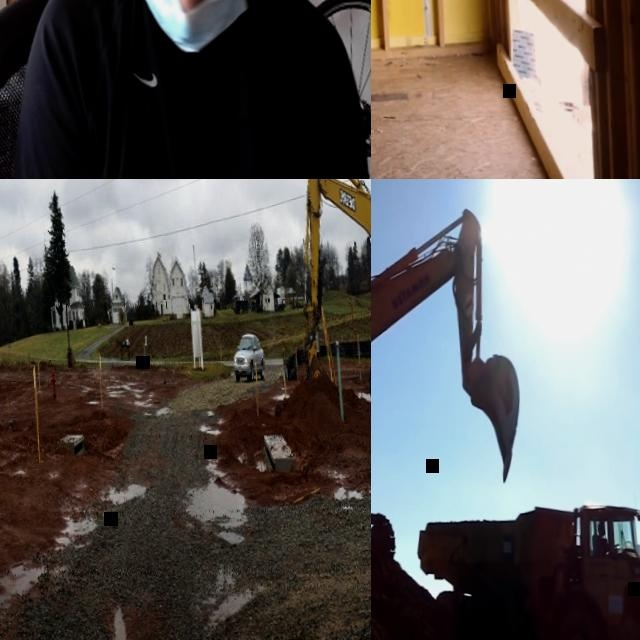Mask: (129, 0, 253, 55)
NO-Safety Vest: (60, 0, 330, 179)
Person: (0, 0, 371, 179), (593, 527, 608, 557)
machinery: (371, 206, 527, 571), (413, 494, 640, 640), (266, 179, 371, 423)
vehicle: (231, 331, 266, 381)
